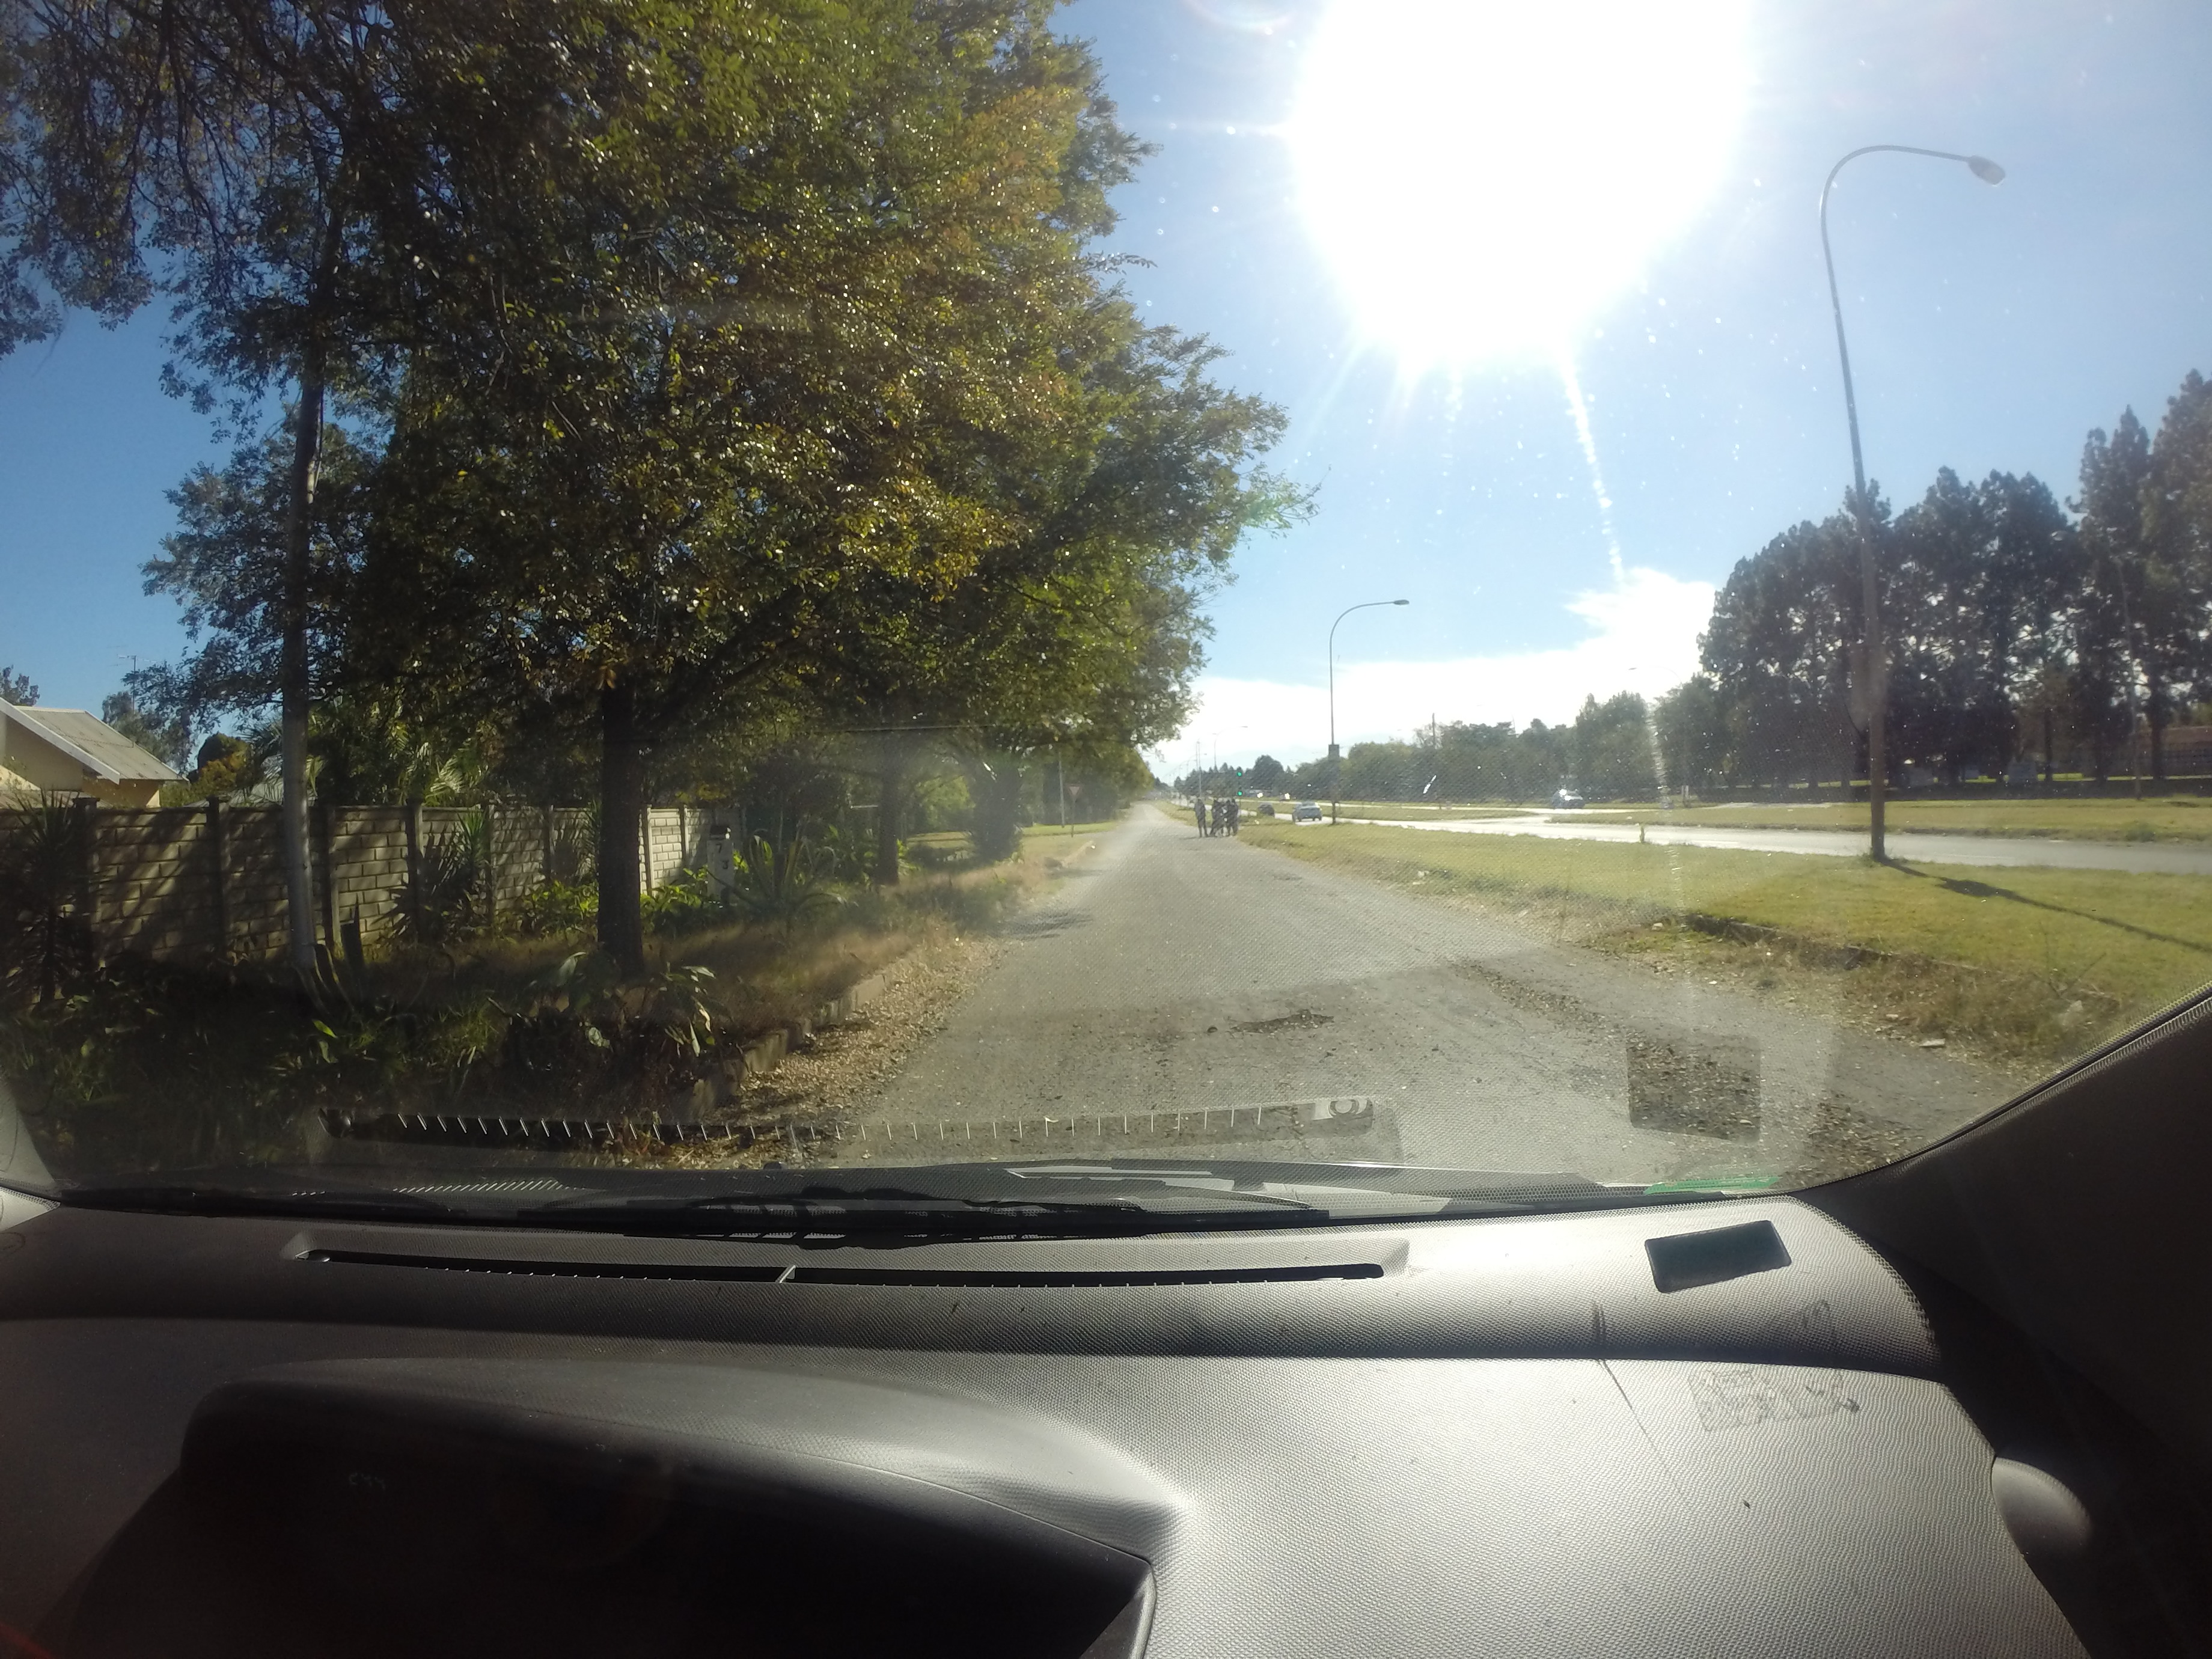pothole: (1162, 979, 1371, 1053)
